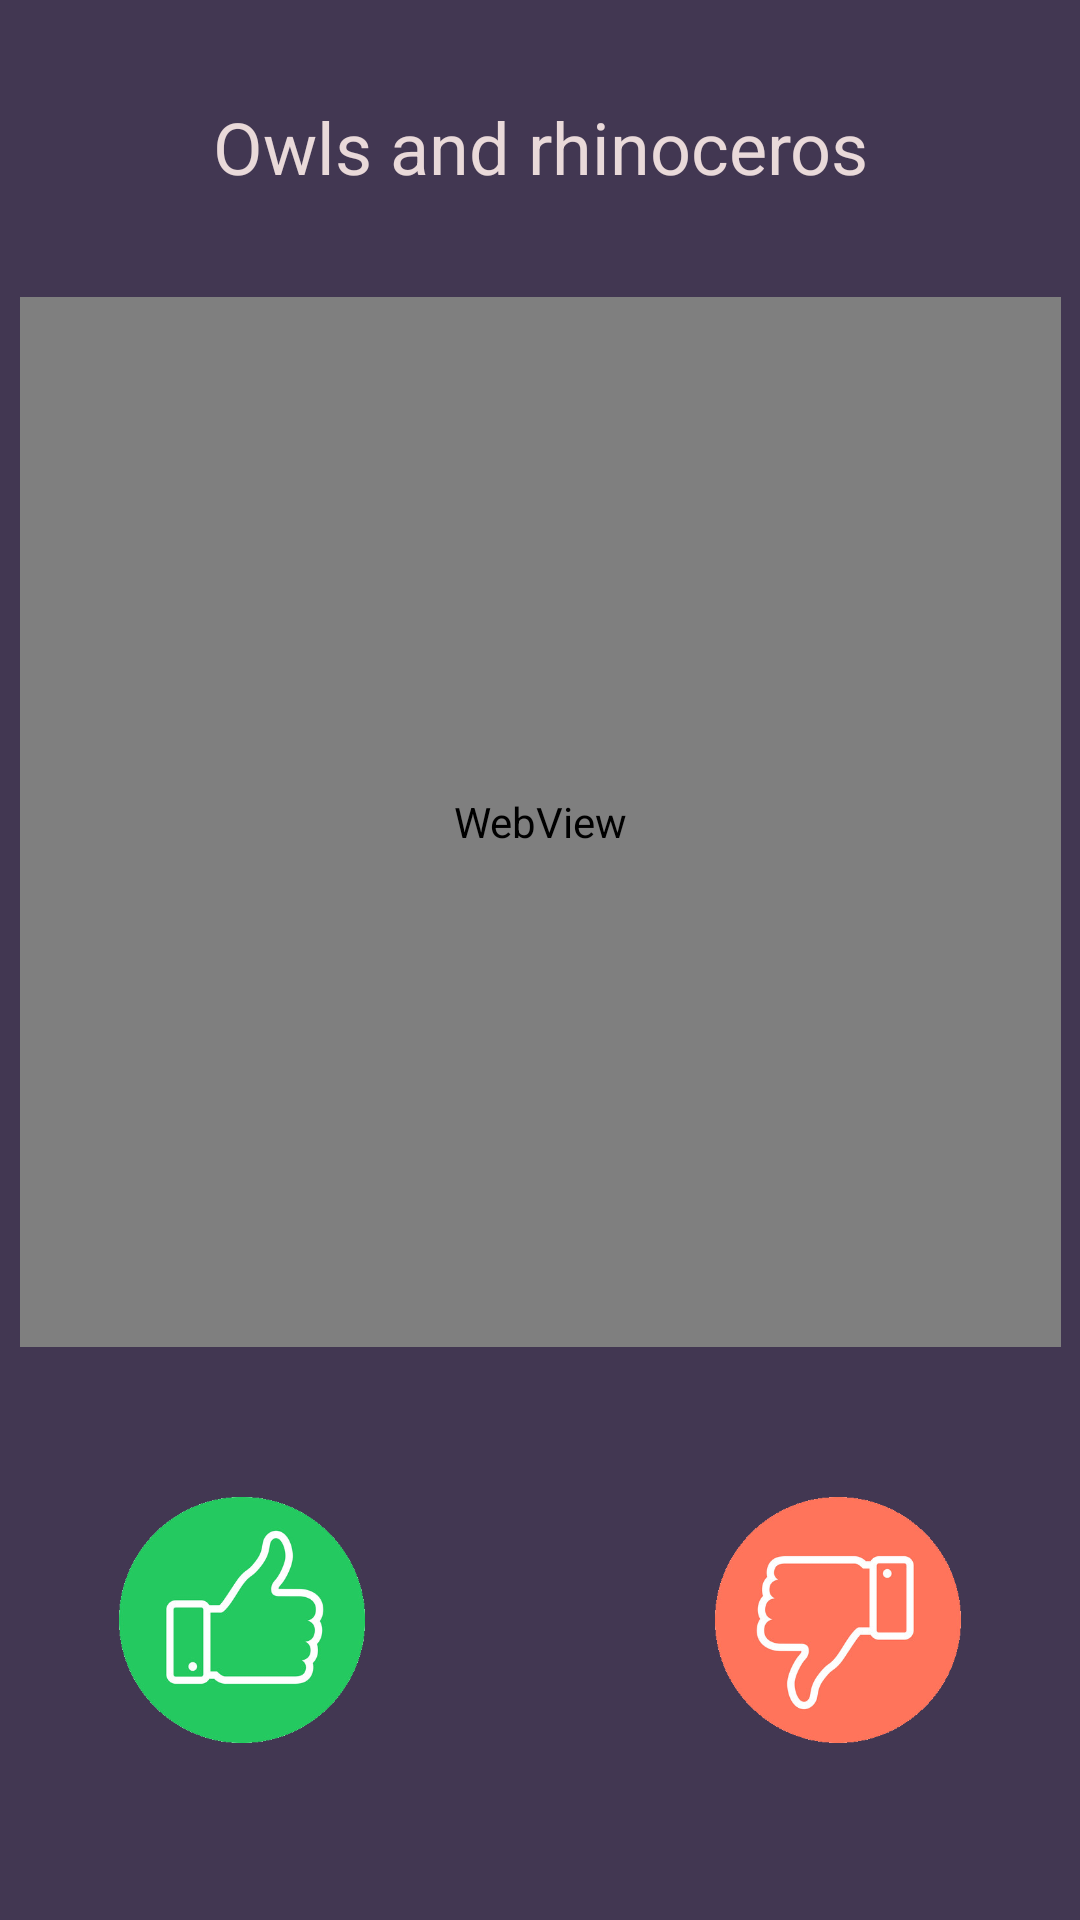

Icon bounding boxes for this 1080×1920 phone screenshot, format {"x1": x1, "y1": y1, "x2": x2, "y2": y2}:
dislike: {"x1": 715, "y1": 1497, "x2": 961, "y2": 1743}
like: {"x1": 119, "y1": 1497, "x2": 365, "y2": 1743}
